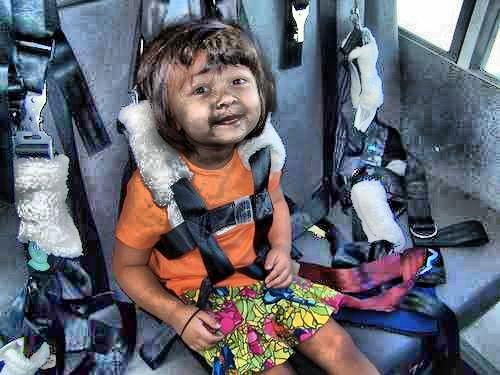seatbelt: (134, 138, 239, 292), (399, 129, 447, 287), (244, 142, 291, 281)
